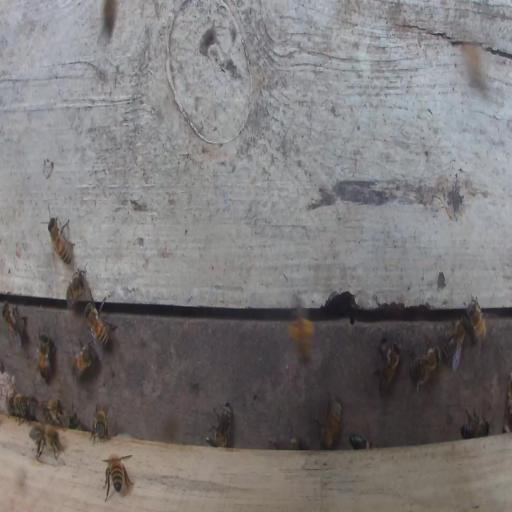nonpollenbee: (83, 299, 117, 348), (408, 345, 441, 395), (102, 451, 134, 501), (442, 314, 469, 370), (29, 422, 65, 461), (315, 397, 342, 449), (47, 215, 74, 266), (205, 401, 233, 448), (377, 339, 401, 393), (466, 295, 487, 355), (1, 301, 28, 347), (66, 265, 91, 307), (71, 338, 97, 378), (460, 409, 490, 438), (37, 332, 53, 383), (10, 393, 37, 423), (91, 405, 109, 442), (41, 397, 64, 424), (103, 1, 118, 38), (349, 433, 372, 449)
pollen: (304, 319, 313, 338), (291, 324, 299, 342)
pollenbee: (289, 298, 314, 368)
